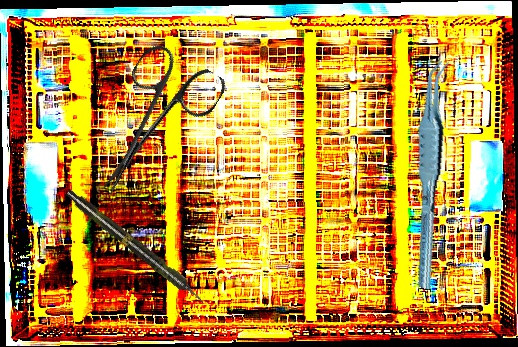Handpiece: (63, 186, 208, 308)
Iris Scissors: (70, 35, 230, 218)
Tissue Forceps: (390, 58, 471, 290)
